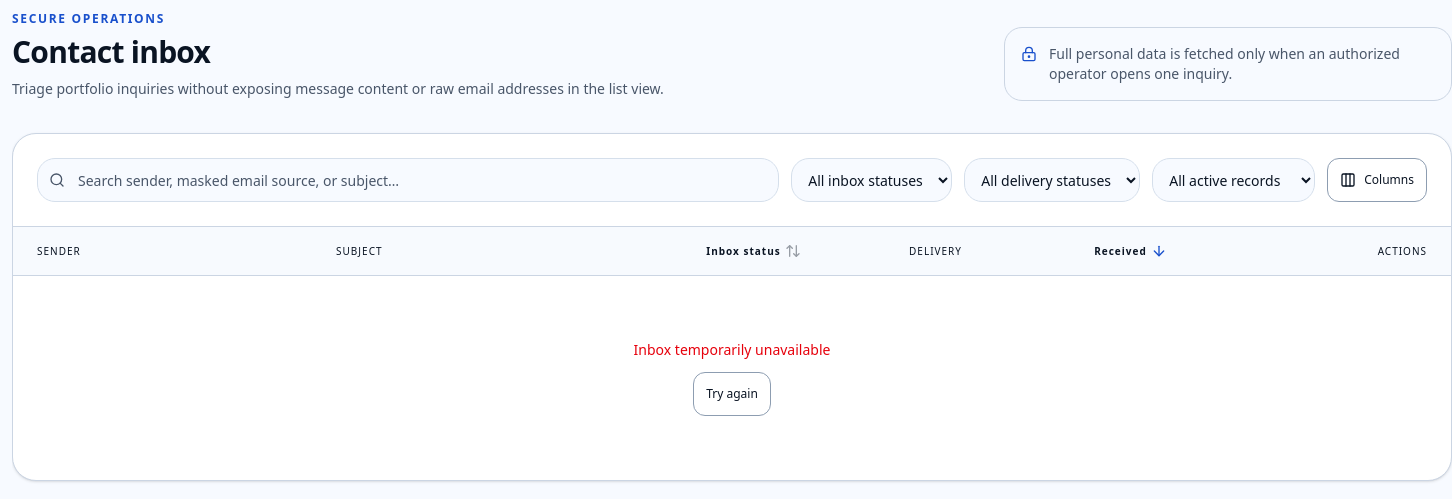
Test: contact inbox workspace › renders a retryable list error
expect the message shows "Inbox temporarily unavailable": met, box [634, 340, 830, 359]
Click the button "Try again".
click(732, 394)  # box [693, 372, 771, 416]
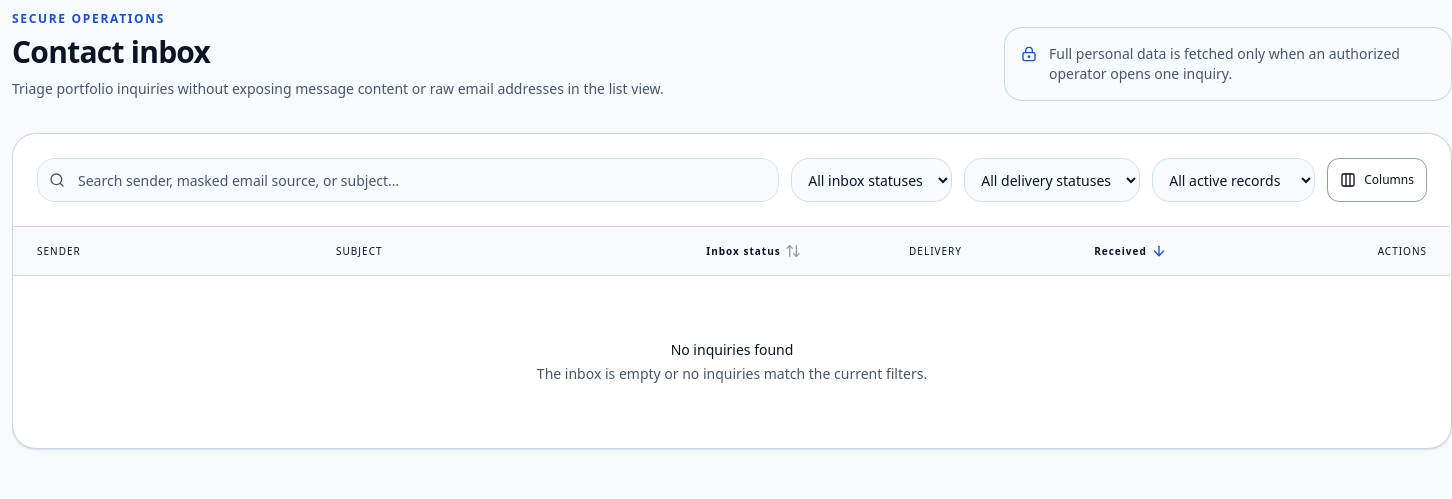
expect the text "No inquiries found" is shown: met, box [671, 340, 793, 360]
